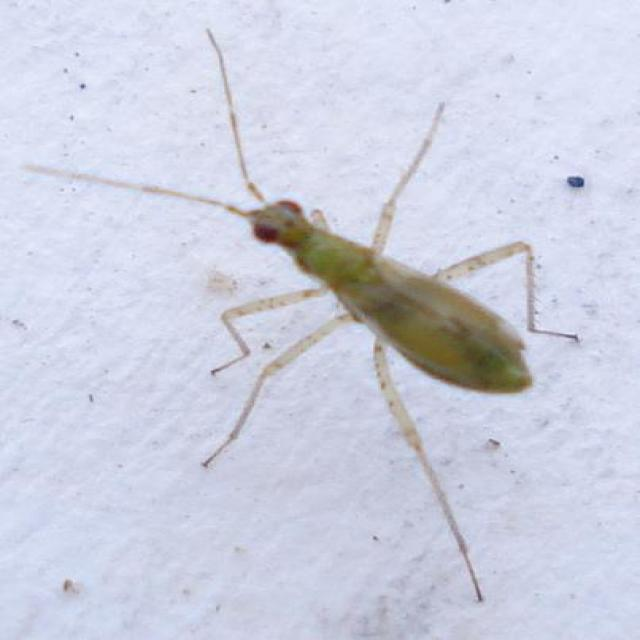Miridae-Adult-: (43, 27, 564, 608)
